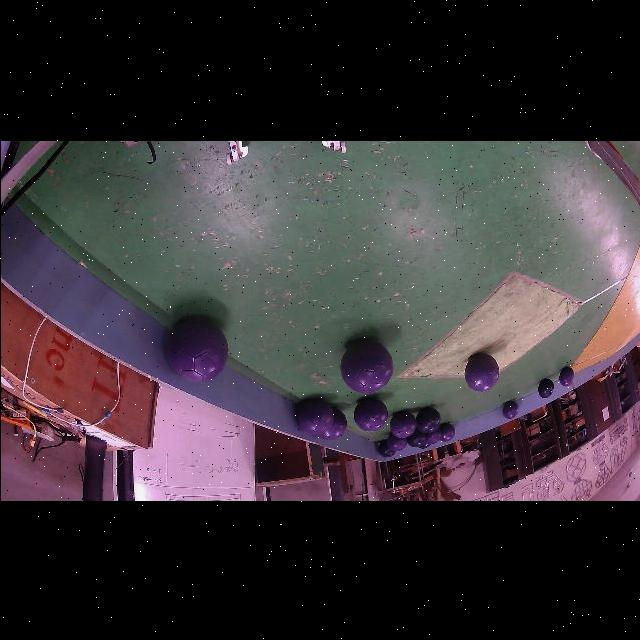B: (415, 406, 440, 432), (406, 428, 425, 446), (376, 439, 394, 456), (538, 378, 552, 398)
P: (166, 318, 228, 381), (339, 339, 392, 392), (464, 352, 499, 391), (296, 398, 332, 434), (352, 398, 388, 430), (319, 408, 346, 439), (389, 410, 415, 438), (386, 432, 406, 450), (501, 400, 518, 419), (558, 366, 574, 386), (439, 422, 454, 441)
